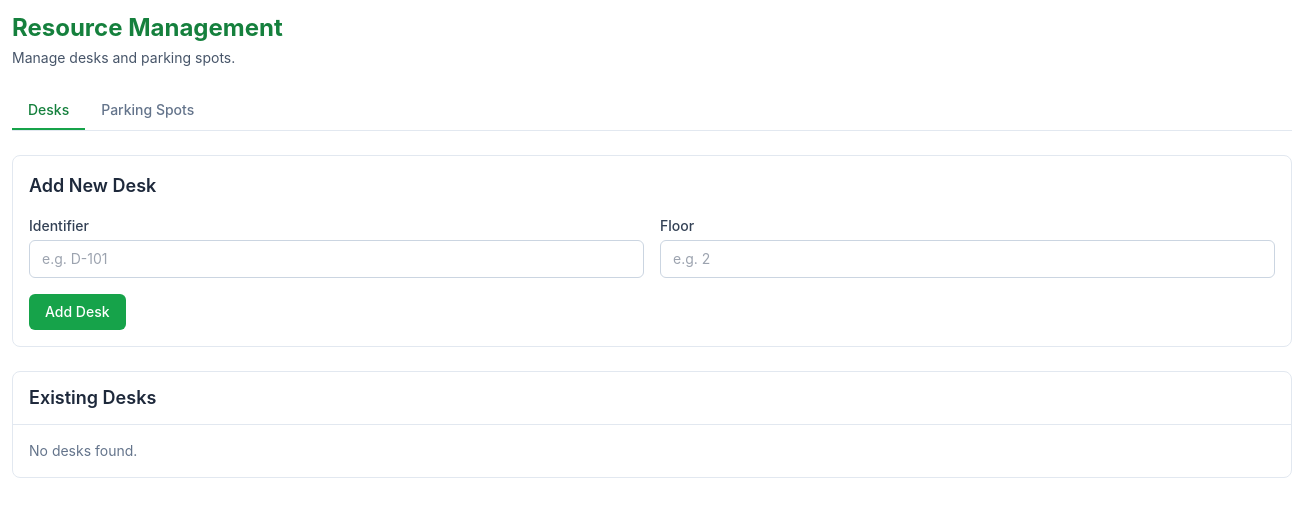
Test: ResourceManagementPage › Desk form validation › shows error when identifier is empty on submit
Type "3" into the field labelled "Floor".
click(968, 259); type("3")  # box [660,240,1275,278]
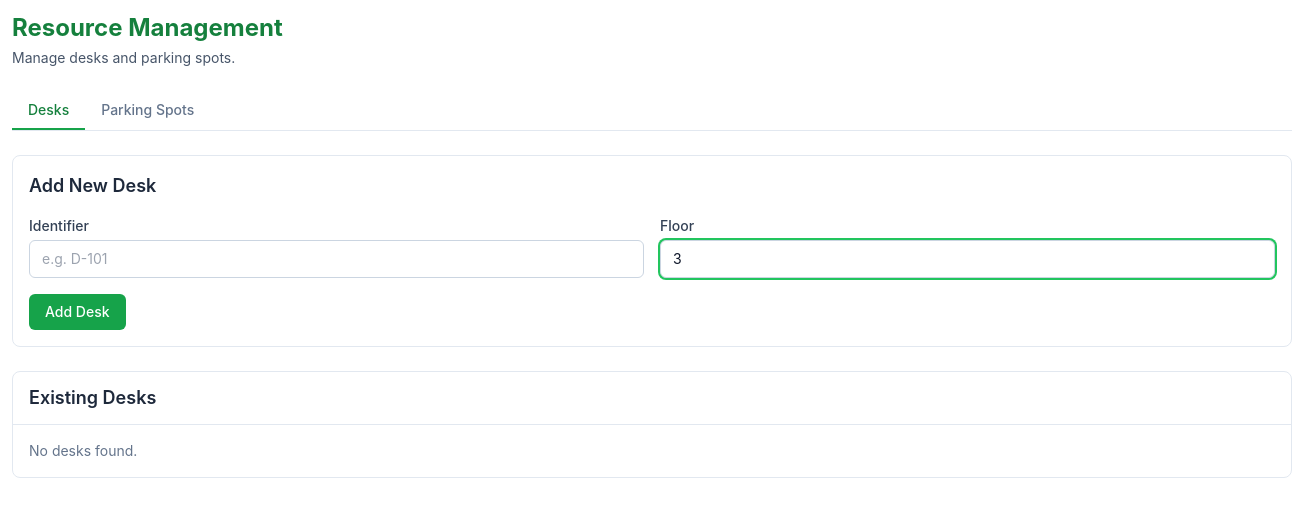
Click the button "Add Desk".
click(77, 312)  # box [29,294,126,330]
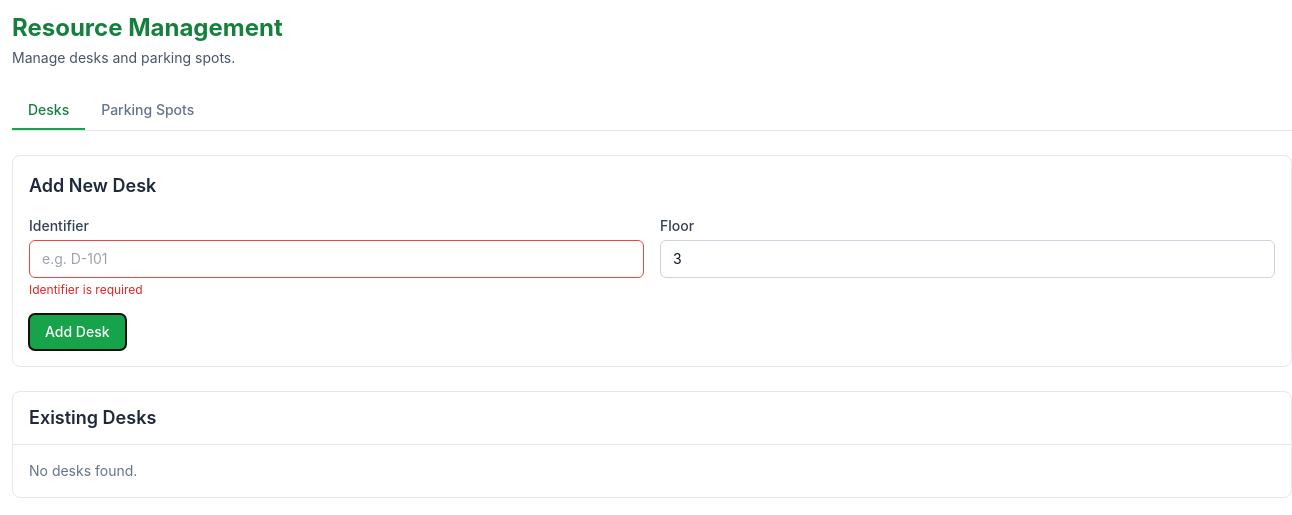
Now the text "Identifier is required" is shown, box [29,282,143,297]
